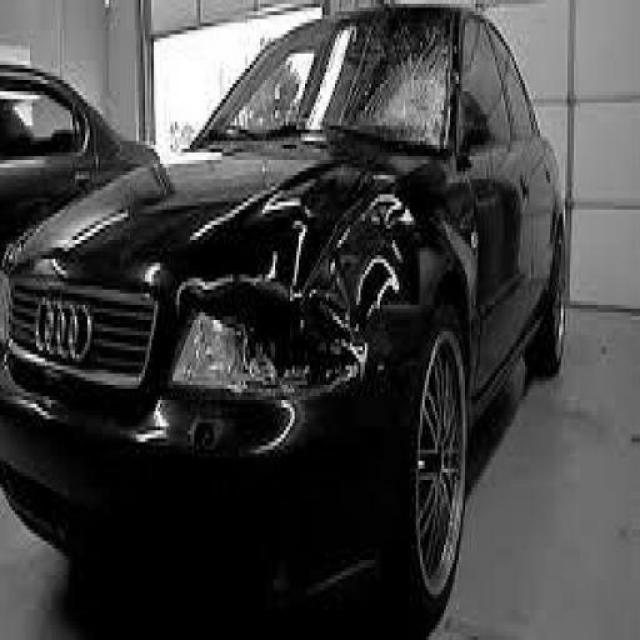crack: (346, 38, 453, 152)
dent: (169, 165, 425, 368)
shatter: (169, 279, 355, 397)
